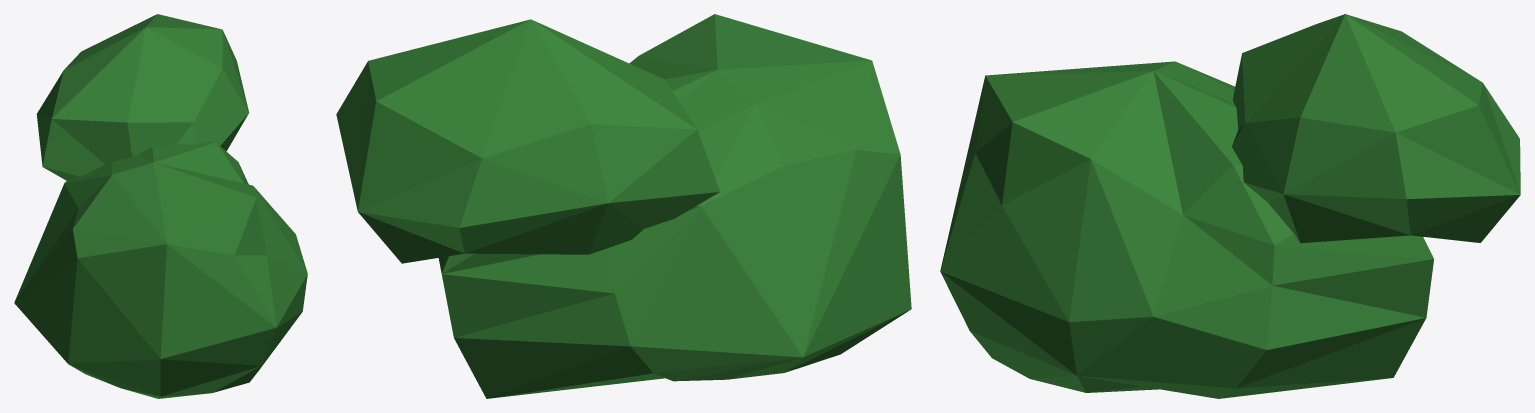
The model's file is shrub_1.obj.
3 renders of one model, left to right at view 1: azimuth 30°, elevation 25°; view 2: azimuth 150°, elevation 25°; view 3: azimuth 270°, elevation 25°, orthographic. The views are drawn at different scales.
Parts seen in each view (by area): view 1: shrub_1 shrubs; view 2: shrub_1 shrubs; view 3: shrub_1 shrubs.
Boxes of the visible parts, bbox=[...] form: shrub_1 shrubs: bbox=[14, 14, 307, 398]; shrub_1 shrubs: bbox=[336, 14, 911, 398]; shrub_1 shrubs: bbox=[940, 14, 1520, 398].
Size of the model in its own units: 10.28 by 9.67 by 13.04.
